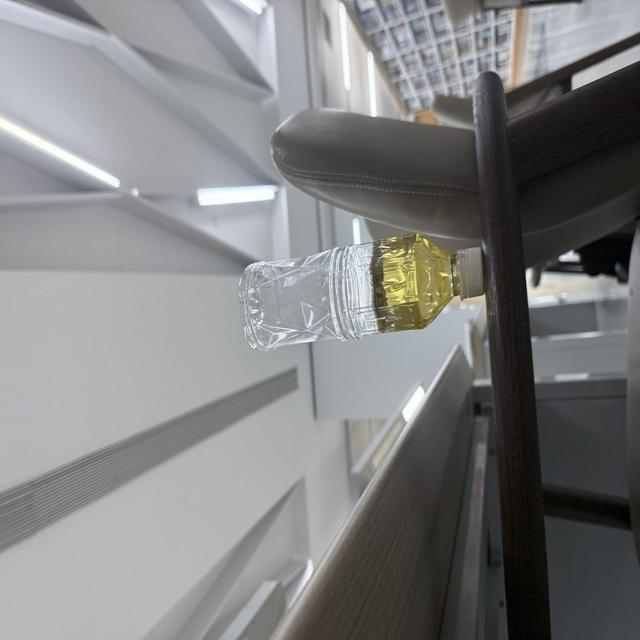low: (239, 234, 482, 350)
